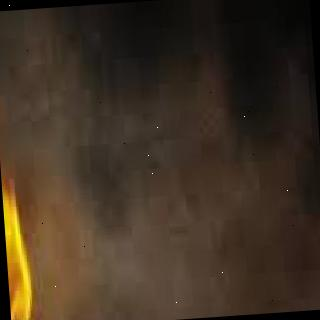fire: (0, 107, 48, 320)
